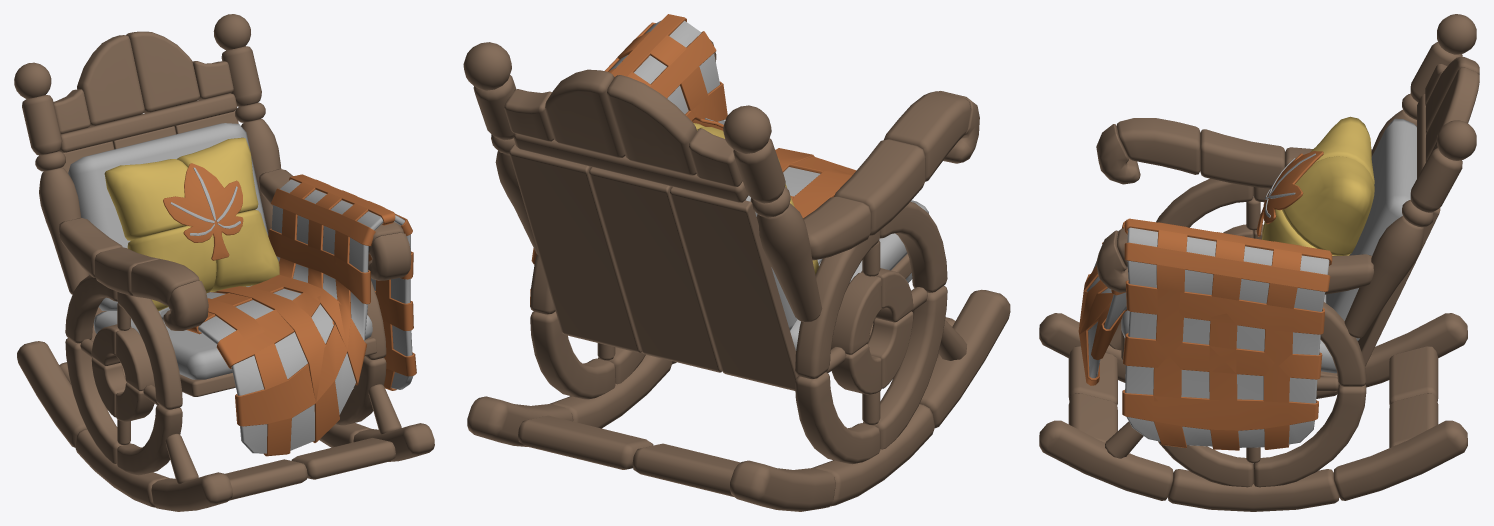
Rendered from RockingChair02_vs01.fbx.
3 views of the same model, side by side, from view 1: azimuth 30°, elevation 25°; view 2: azimuth 150°, elevation 25°; view 3: azimuth 270°, elevation 25° (orthographic). The views are drawn at different scales.
Parts seen in each view (by area): view 1: M_Rockingchair02, S_Rockingchair02; view 2: M_Rockingchair02, S_Rockingchair02; view 3: S_Rockingchair02, M_Rockingchair02.
Part boxes in pixels (x1,y1,x2,y2): M_Rockingchair02: (14, 14, 434, 511); S_Rockingchair02: (35, 102, 416, 475); M_Rockingchair02: (463, 42, 1010, 511); S_Rockingchair02: (491, 14, 979, 464); S_Rockingchair02: (1078, 93, 1433, 487); M_Rockingchair02: (1039, 14, 1479, 511).
Size of the model in its own units: 359 by 483 by 495.
